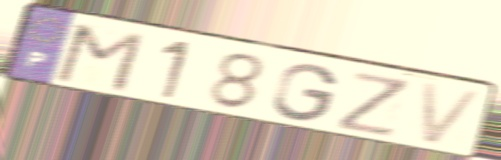1: (158, 39, 193, 102)
8: (204, 51, 269, 112)
G: (270, 62, 342, 124)
M: (50, 22, 148, 95)
V: (418, 79, 489, 148)
Z: (335, 69, 412, 140)
